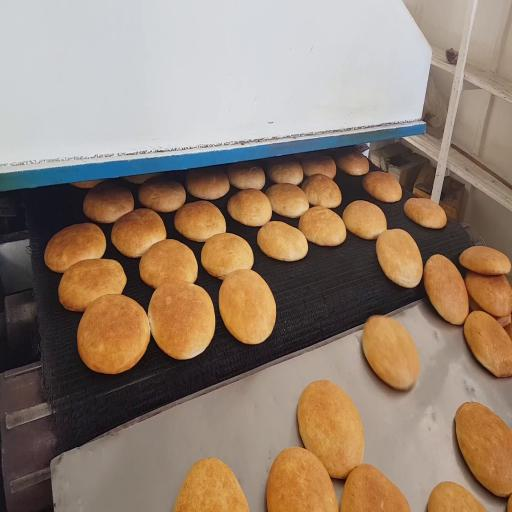bread: (298, 381, 364, 478), (78, 295, 150, 374), (148, 281, 215, 359), (455, 403, 511, 496), (267, 448, 337, 511), (219, 269, 276, 344), (363, 316, 419, 390), (174, 458, 249, 511), (59, 259, 126, 311), (340, 465, 410, 511), (464, 311, 511, 377), (44, 223, 106, 273), (424, 255, 468, 325), (140, 239, 197, 288), (376, 229, 422, 288), (111, 209, 166, 257), (201, 233, 253, 279), (465, 271, 511, 317), (83, 182, 134, 223), (174, 201, 226, 241), (258, 221, 307, 261), (299, 207, 346, 246), (428, 482, 486, 511), (139, 176, 185, 212), (343, 201, 386, 239), (227, 189, 271, 226), (266, 183, 309, 218), (459, 247, 510, 275), (186, 168, 229, 200), (302, 174, 341, 208), (404, 198, 446, 228), (363, 172, 401, 202), (227, 162, 265, 190), (267, 157, 303, 185), (300, 155, 336, 179), (336, 150, 369, 175), (124, 173, 161, 184), (71, 180, 104, 189), (468, 294, 482, 311), (504, 323, 511, 339), (507, 495, 511, 511)
